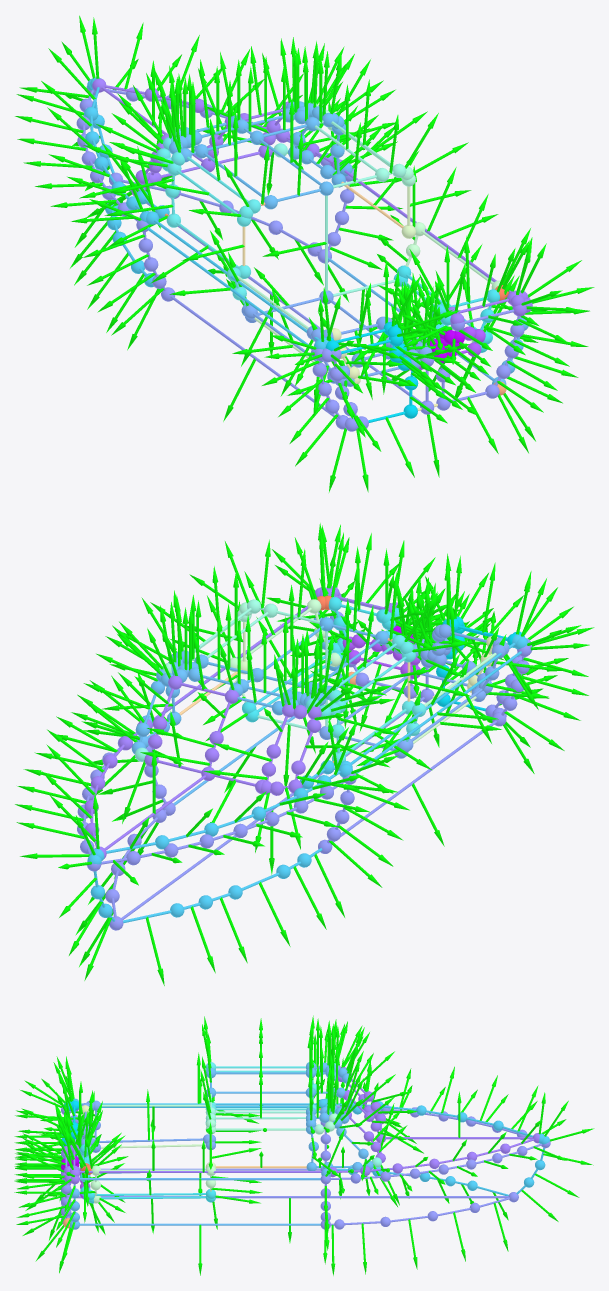
Rendered from flowrep_boat.gltf.
3 views of the same model, one above another, from view 1: azimuth 30°, elevation 25°; view 2: azimuth 150°, elevation 25°; view 3: azimuth 270°, elevation 25° (orthographic). The views are drawn at different scales.
Bounding box in the file's own units: 0.5255 × 0.4207 × 1.11.
